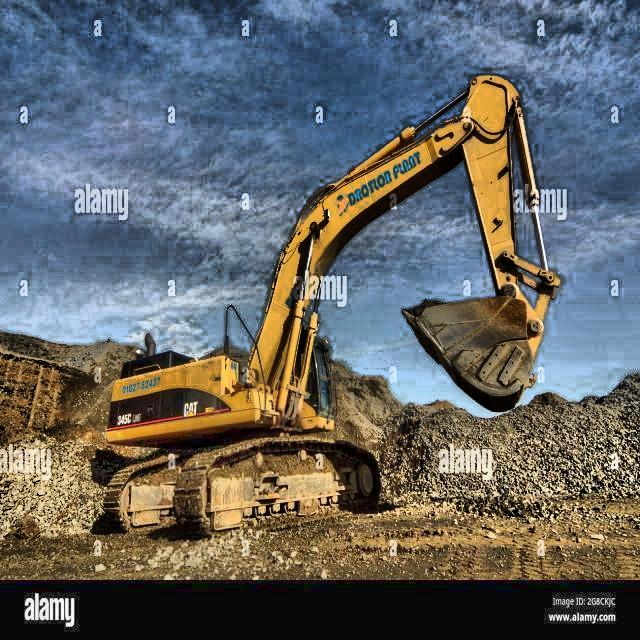excavator: (102, 70, 560, 536)
